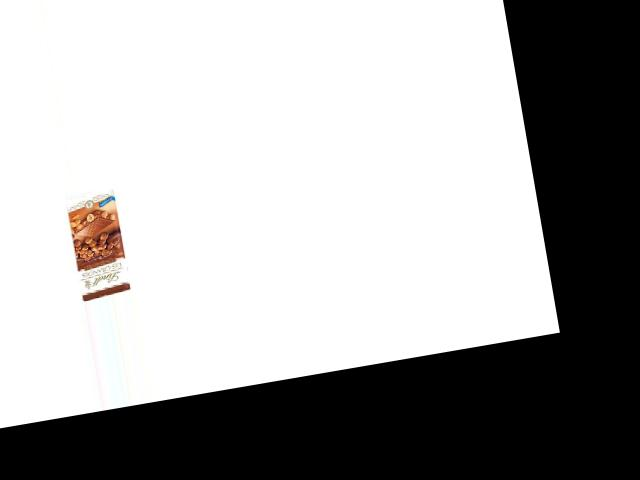chocolate: (58, 193, 134, 299)
